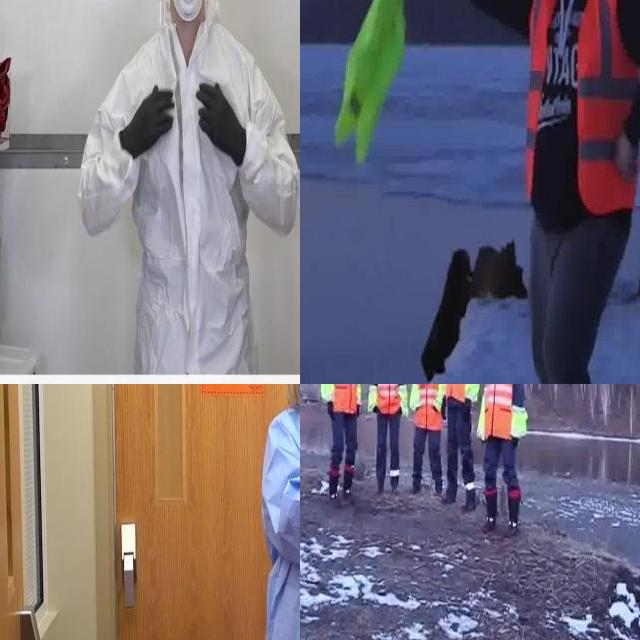BOOTS: (504, 488, 521, 537), (482, 489, 498, 533), (368, 468, 387, 502), (330, 470, 345, 510), (341, 467, 357, 504), (385, 471, 402, 505), (461, 489, 478, 513), (442, 485, 459, 506), (408, 475, 423, 495)
Glove: (195, 78, 248, 170), (118, 82, 176, 158)
MASK: (171, 0, 204, 24)
VEST: (523, 0, 640, 216), (482, 384, 520, 441), (416, 384, 443, 428), (372, 384, 403, 417), (333, 384, 358, 416), (444, 384, 479, 406)
